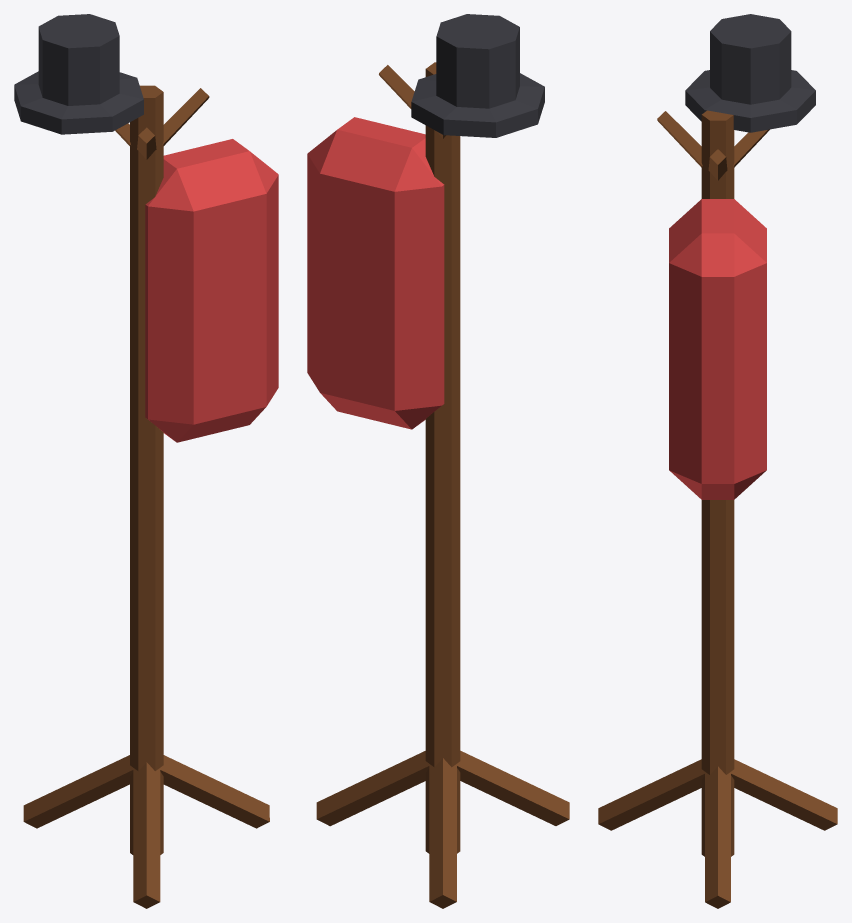
Rendered from CoatRack.fbx.
3 renders of one model, left to right at view 1: azimuth 30°, elevation 25°; view 2: azimuth 150°, elevation 25°; view 3: azimuth 270°, elevation 25°, orthographic. The views are drawn at different scales.
Visible parts, largest first — view 1: CoatRack; view 2: CoatRack; view 3: CoatRack.
Boxes of the visible parts, x1=… form: CoatRack: x1=14, y1=14, x2=278, y2=908; CoatRack: x1=307, y1=14, x2=569, y2=908; CoatRack: x1=598, y1=14, x2=837, y2=908.
Bounding box in the file's own units: 1.6 × 5.42 × 1.47.
1 material, 1 textured.
